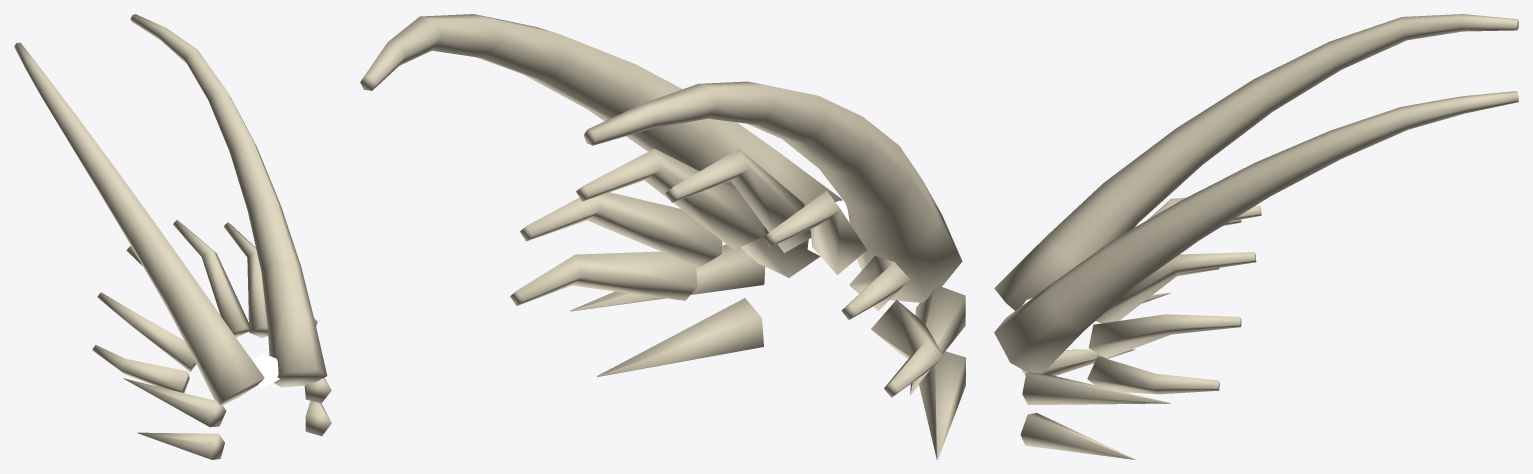
File: drake-horns.glb
3 renders of one model, left to right at view 1: azimuth 30°, elevation 25°; view 2: azimuth 150°, elevation 25°; view 3: azimuth 270°, elevation 25°, orthographic. The views are drawn at different scales.
Parts seen in each view (by area): view 1: horns; view 2: horns; view 3: horns.
Part boxes in pixels (left/top/right/bottom): horns: left=14, top=14, right=331, bottom=459; horns: left=360, top=14, right=965, bottom=459; horns: left=994, top=14, right=1518, bottom=459.
Bounding box in the file's own units: 0.2108 × 0.2778 × 0.3707.
